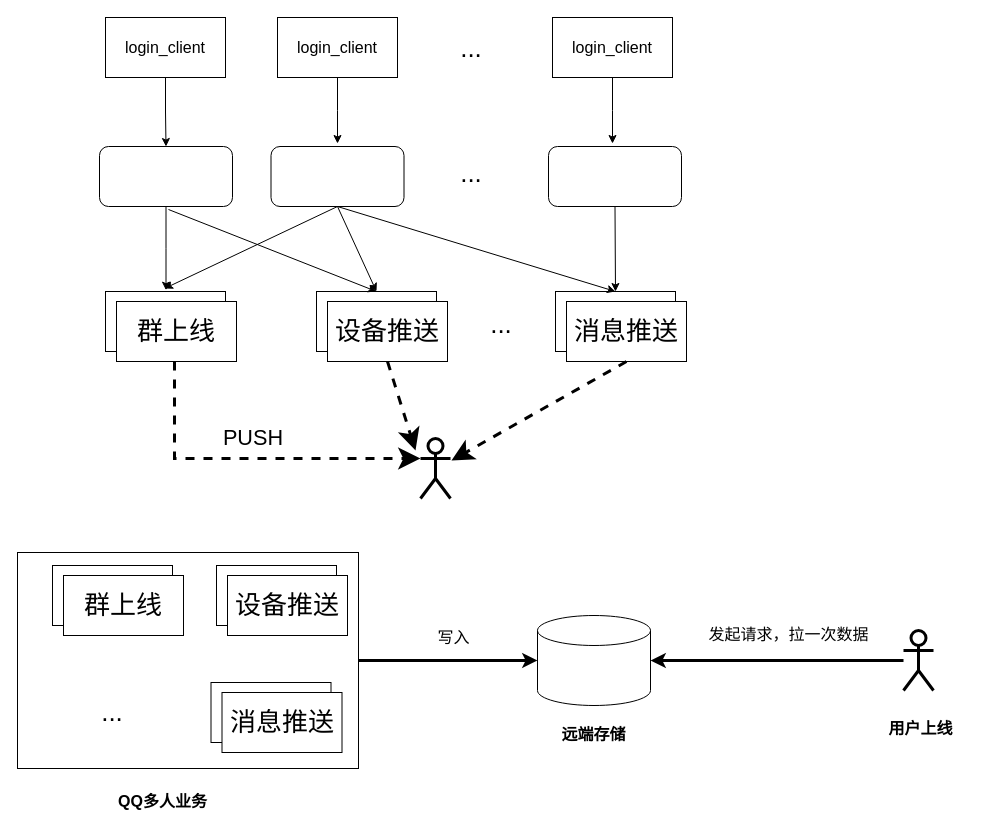
The diagram is 992 pixels wide and 830 high, and some of its shapes have lost their labels. The centre of each missing label's shape, as x and y in pixels:
"distributor 1" goes at point 165,176.
"distributor 2" goes at point 337,176.
"distributor N" goes at point 615,176.
"Redis" goes at point 593,660.
